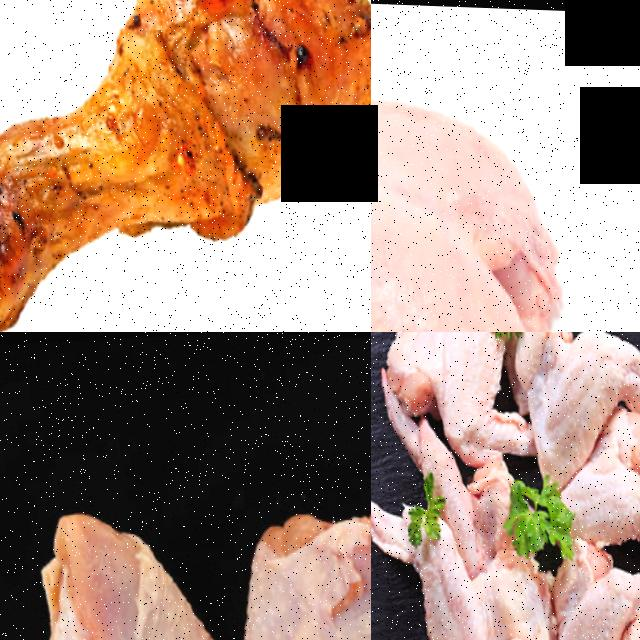chicken breast: (371, 24, 628, 332)
chicken thigh: (0, 0, 371, 332), (127, 491, 371, 640)
chicken wing: (371, 480, 537, 640), (507, 332, 640, 485), (380, 332, 531, 458), (534, 525, 640, 640)
